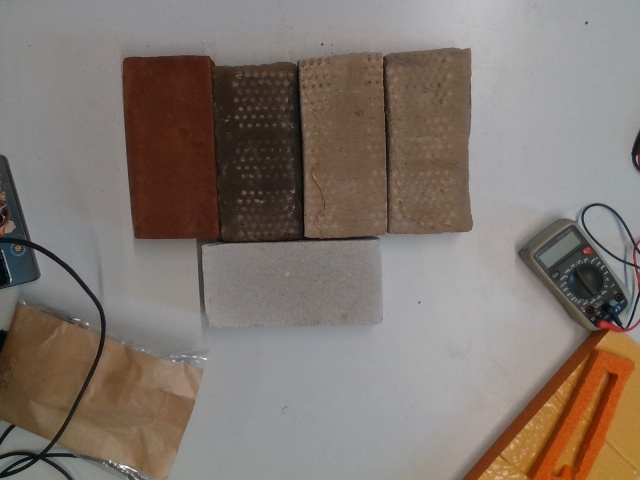brick: (126, 60, 211, 239), (208, 243, 377, 326), (303, 58, 382, 234), (392, 54, 467, 230), (224, 67, 296, 235)
